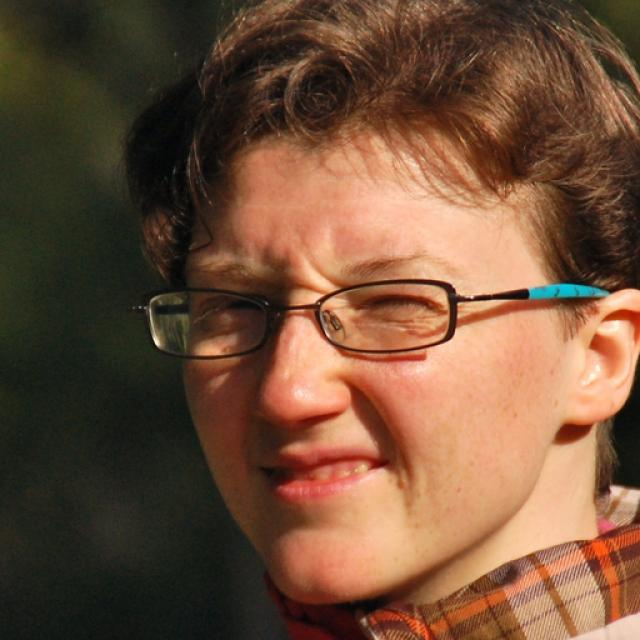disgust: (176, 110, 564, 608)
